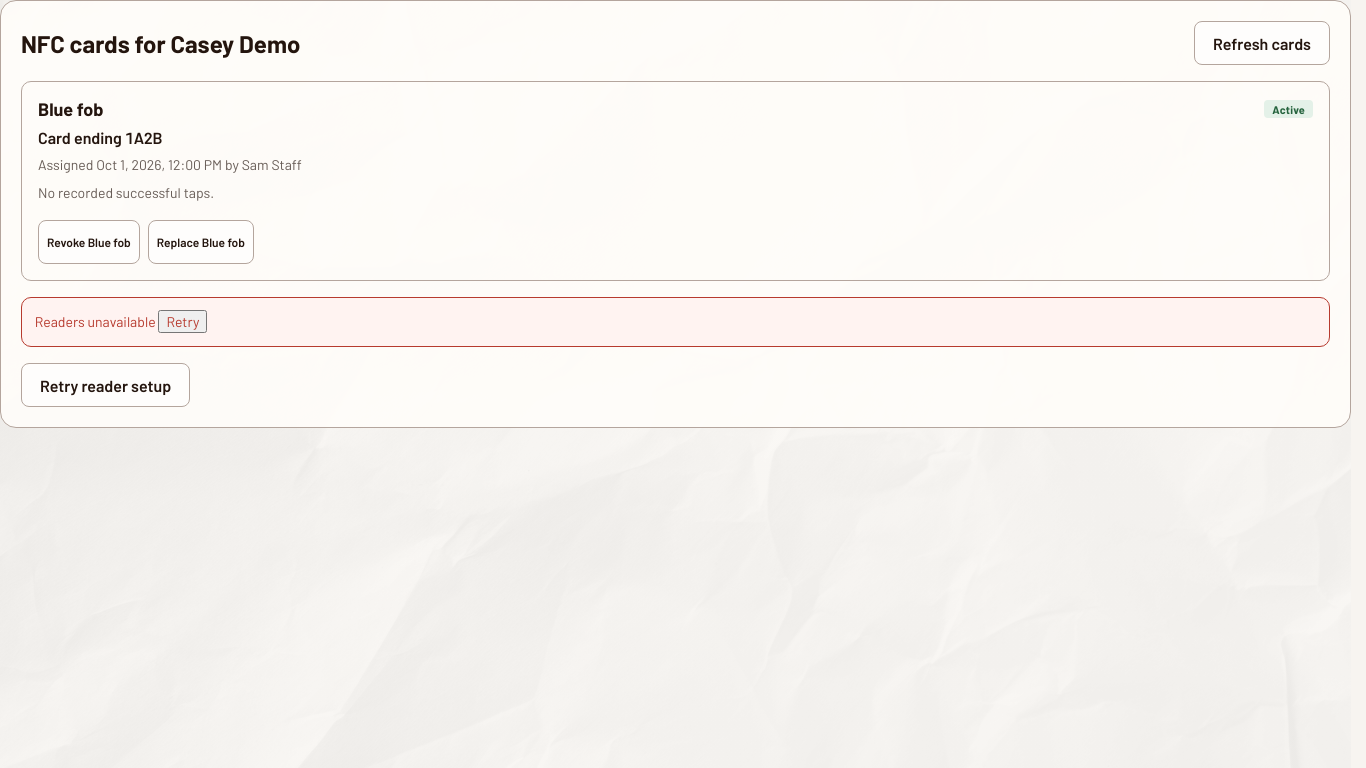
Test: a failed revoke keeps the dialog open with the error and the reason, and can be retried
Click the button "Revoke Blue fob" at (89, 242), box left=38, top=220, right=140, bottom=264
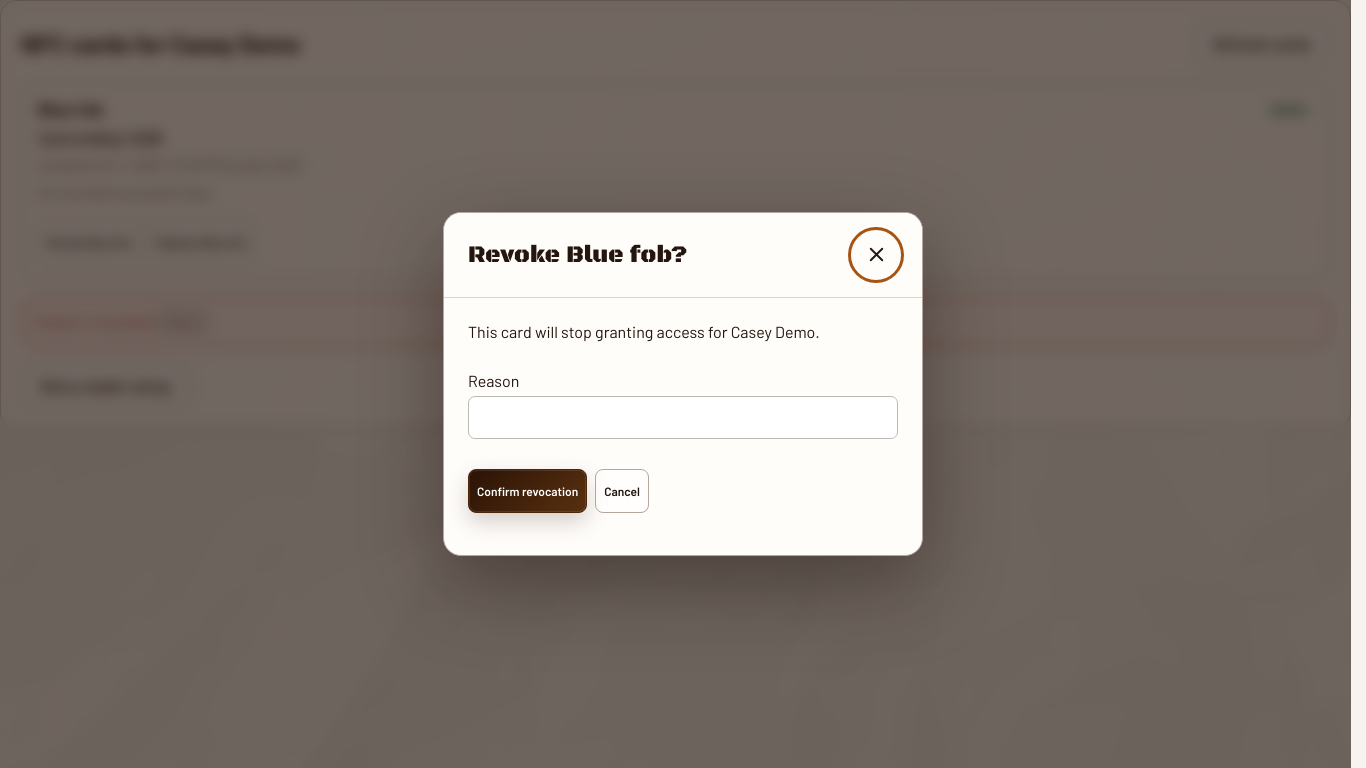
Type "Lost card" into the field labelled "Reason" at (683, 418), box left=468, top=396, right=898, bottom=439
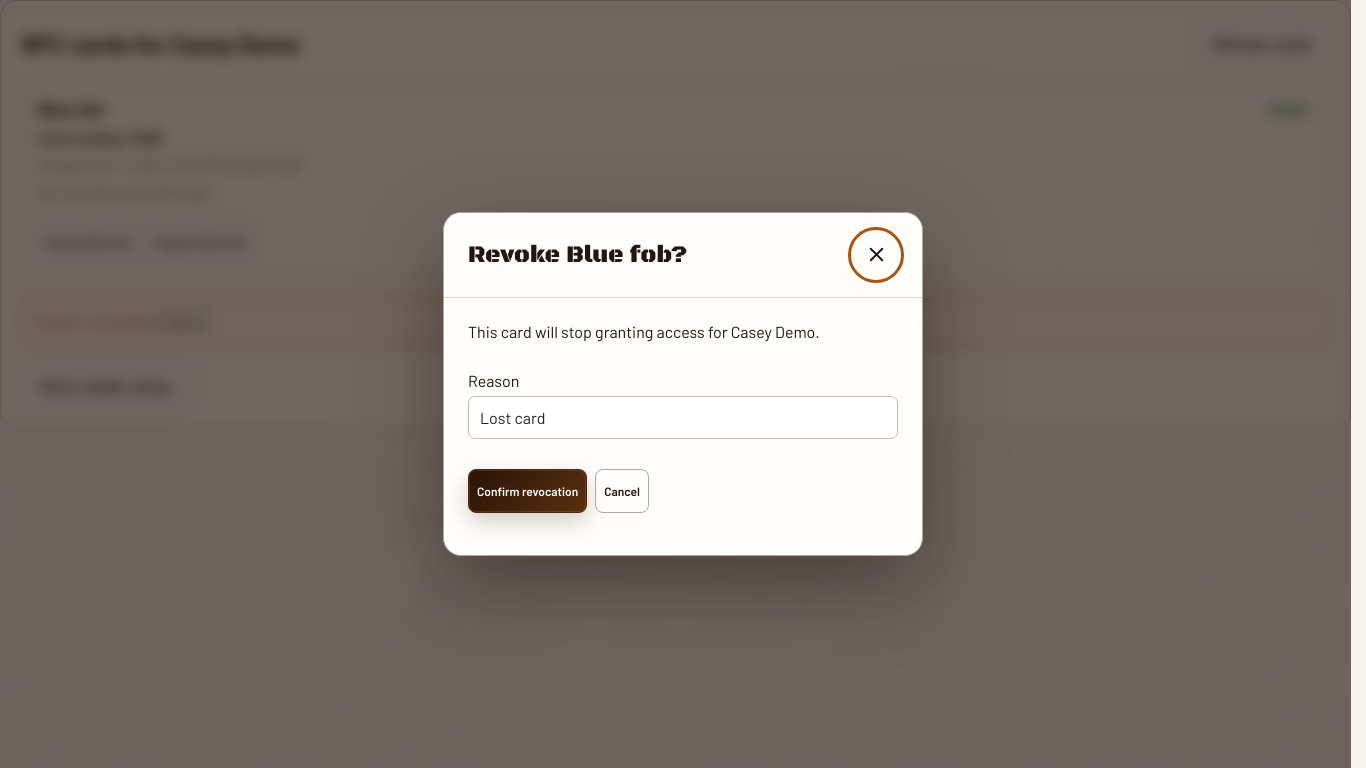
Click the button "Confirm revocation" at (528, 491), box left=468, top=469, right=587, bottom=513
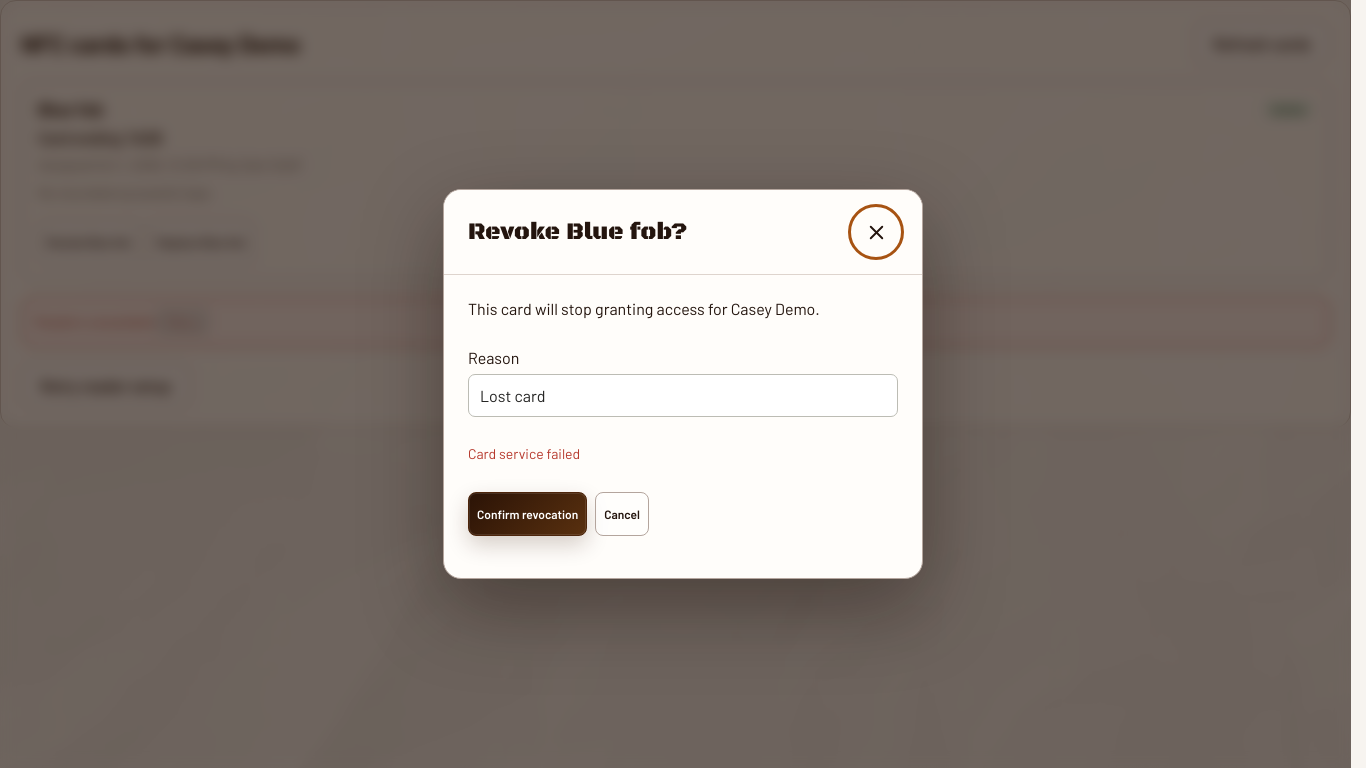
Now the button "Confirm revocation" is enabled
Now the message reads "Card service failed", box left=468, top=445, right=580, bottom=462
Click the button "Confirm revocation" at (528, 514), box left=468, top=492, right=587, bottom=536
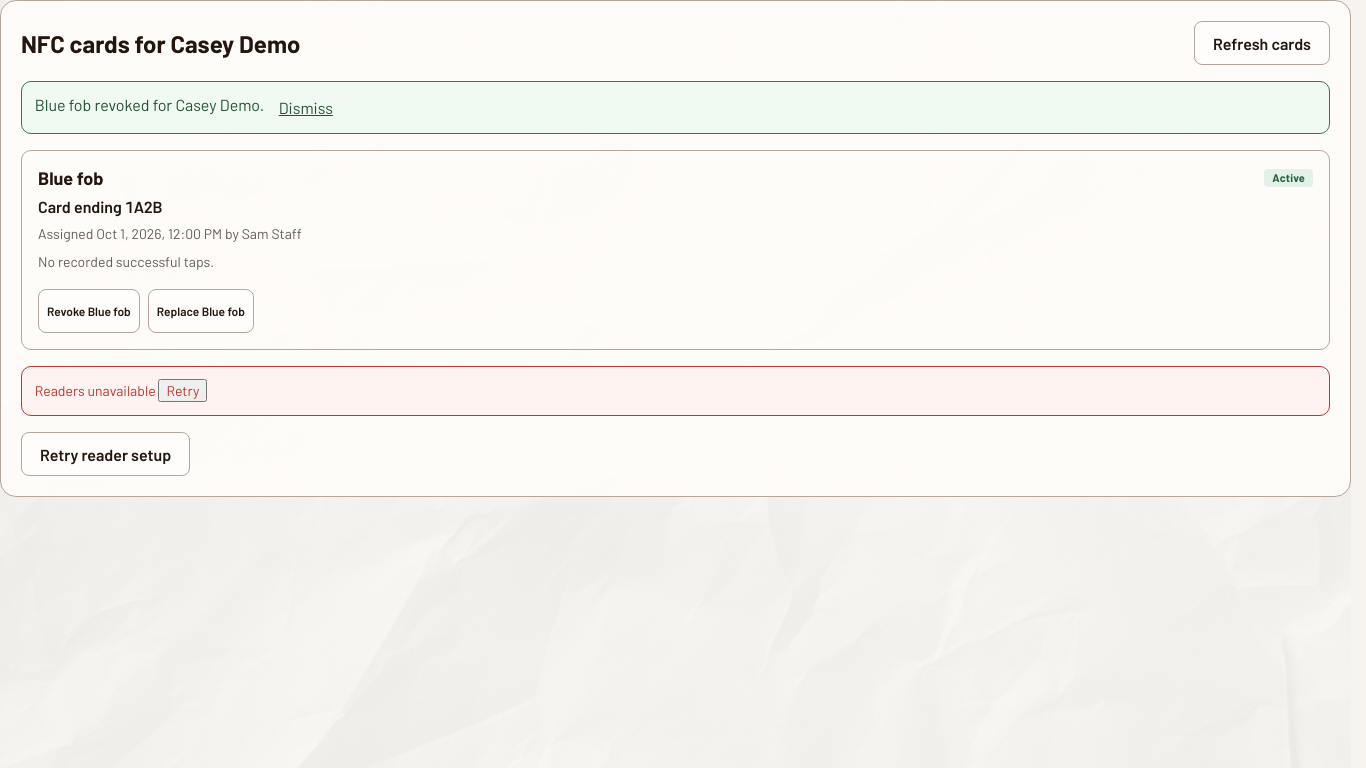
Expected: the dialog "Revoke Blue fob?" is not shown
Now the message "Blue fob revoked for Casey Demo. Dismiss" is shown, box left=21, top=81, right=1330, bottom=134
